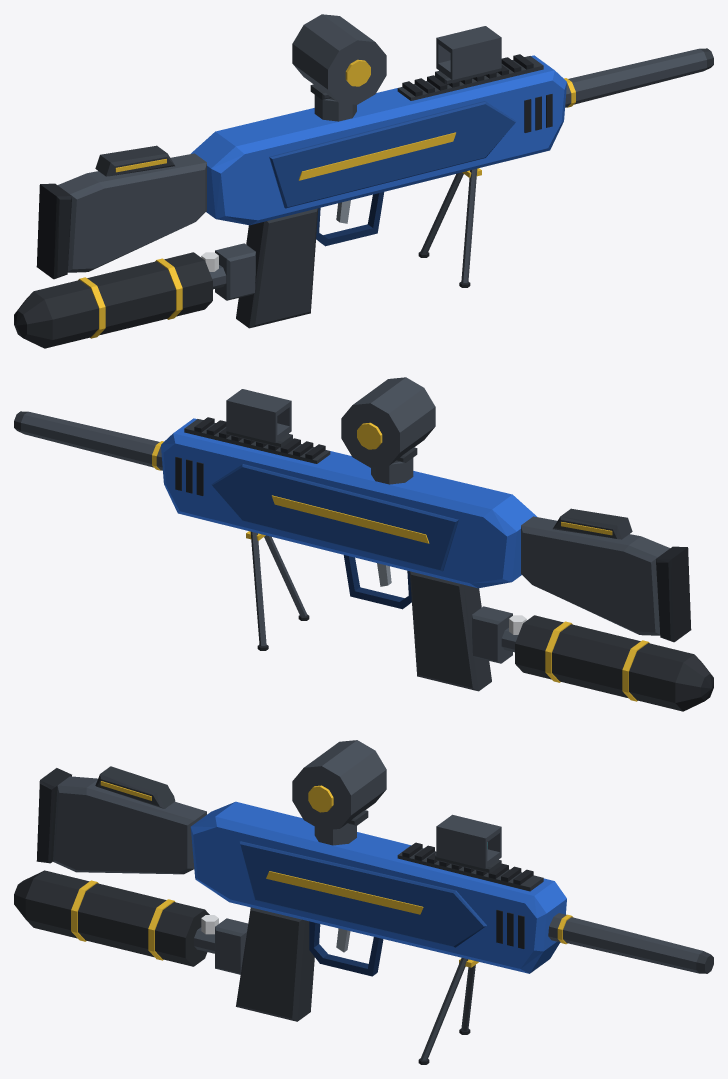
Rendered from titan_factory.glb.
3 renders of one model, top to bottom at view 1: azimuth 30°, elevation 25°; view 2: azimuth 150°, elevation 25°; view 3: azimuth 330°, elevation 25°, orthographic.
Visible parts, largest first — view 1: titan_factory; view 2: titan_factory; view 3: titan_factory.
Part boxes in pixels (x1,y1,x2,y2): titan_factory: (14, 14, 713, 348); titan_factory: (14, 377, 713, 711); titan_factory: (14, 740, 713, 1064).
Bounding box in the file's own units: 0.9 × 0.338 × 0.1041.
